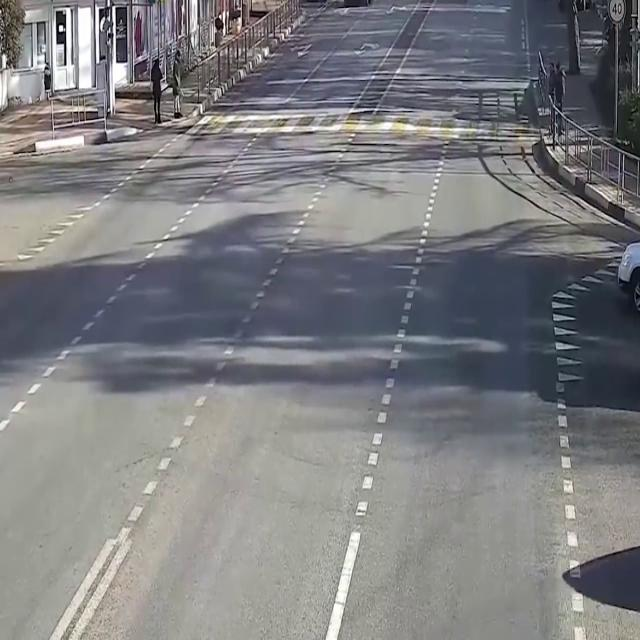noaccident: (119, 75, 419, 505)
